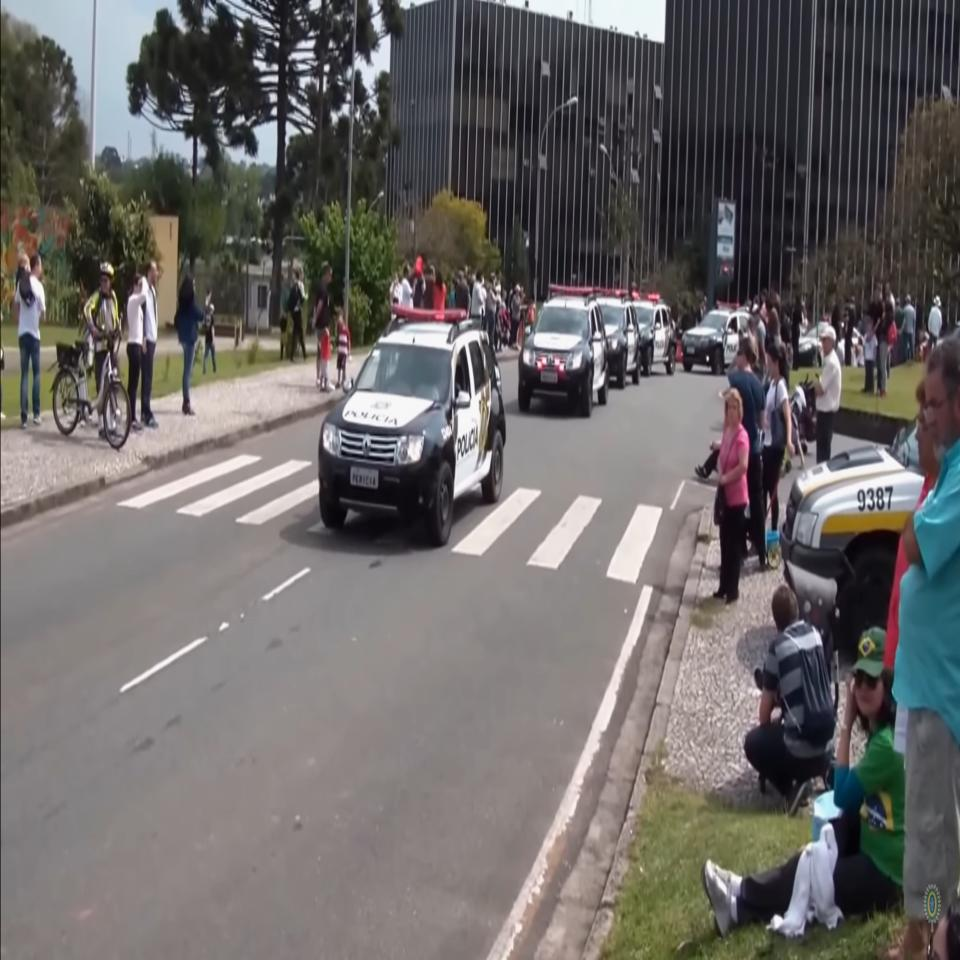viatura: (317, 301, 508, 548), (518, 280, 610, 421)
